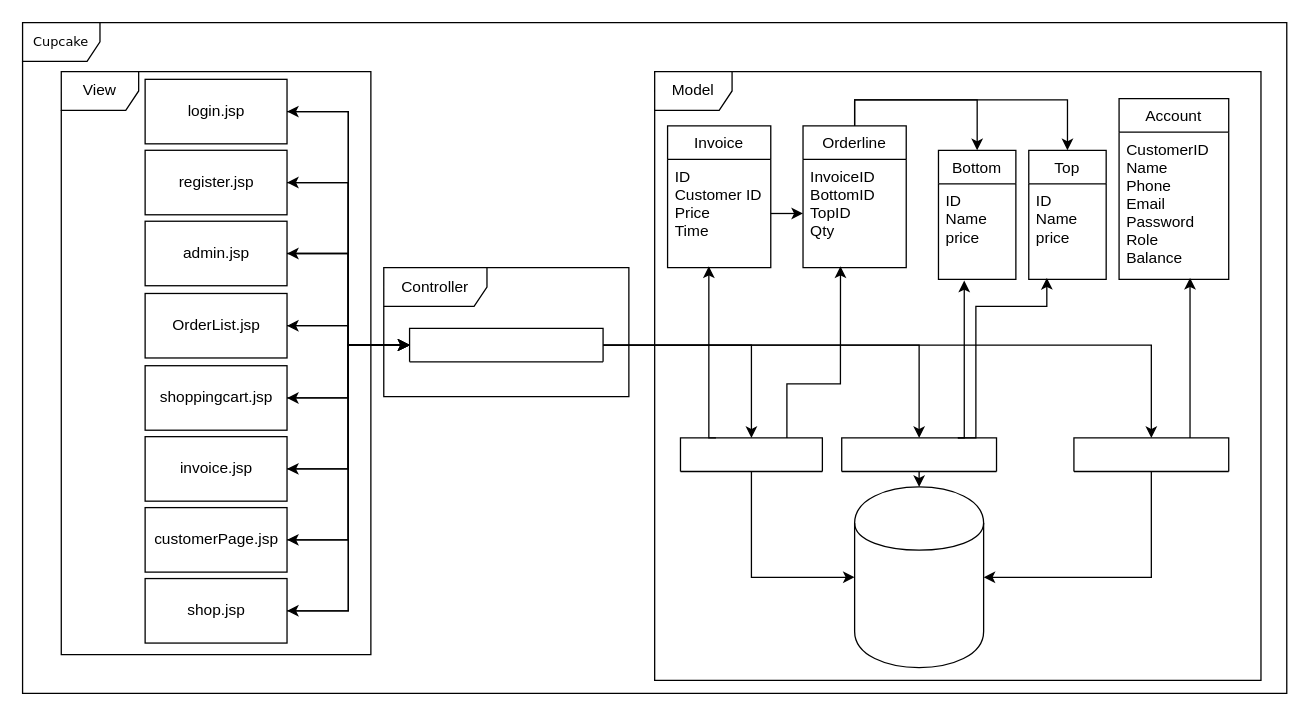
The diagram is 1309 pixels wide and 716 high, and some of its shapes have lost their labels. The shapes that lost their labels are listed below. From the top down, each one's centre as x and y in pixels, then its label:
At (505,344): "FrontServlet".
At (750,454): "InvoiceMapper".
At (918,454): "CupcakeMapper".
At (1151,454): "AccountMapper".
At (918,577): "SQL Data Base".
